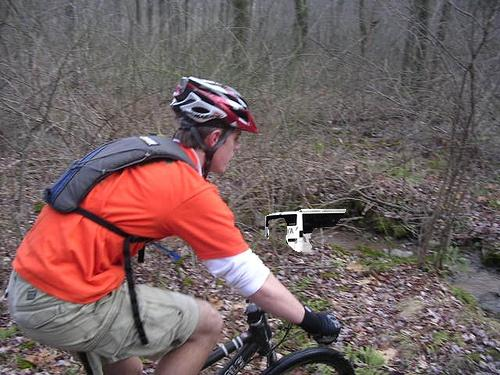tampered: (265, 209, 346, 252)
